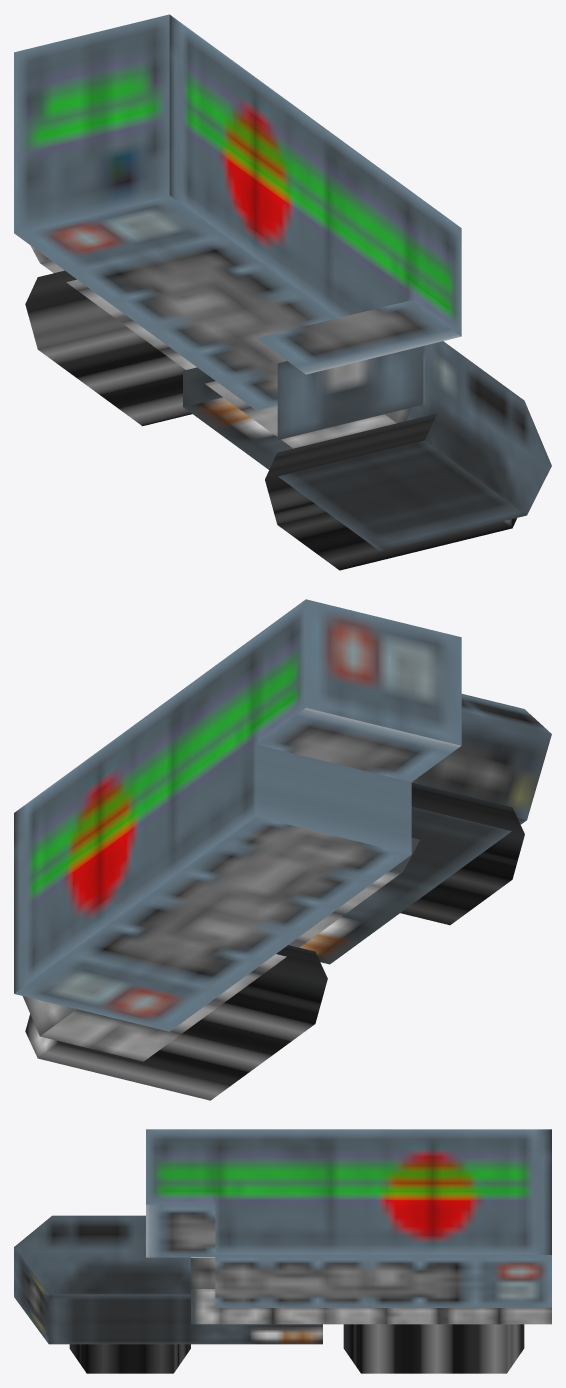
The model's file is cargotruckprop.glb.
3 renders of one model, top to bottom at view 1: azimuth 30°, elevation 25°; view 2: azimuth 150°, elevation 25°; view 3: azimuth 270°, elevation 25°, orthographic. The views are drawn at different scales.
Parts seen in each view (by area): view 1: cargotruck; view 2: cargotruck; view 3: cargotruck.
Boxes of the visible parts, <box> form: cargotruck: <box>14,14,551,570</box>; cargotruck: <box>14,599,551,1100</box>; cargotruck: <box>14,1129,551,1373</box>.
Bounding box in the file's own units: 3 × 4.5 × 11.62.
Materials: 1 (1 with a texture image).
